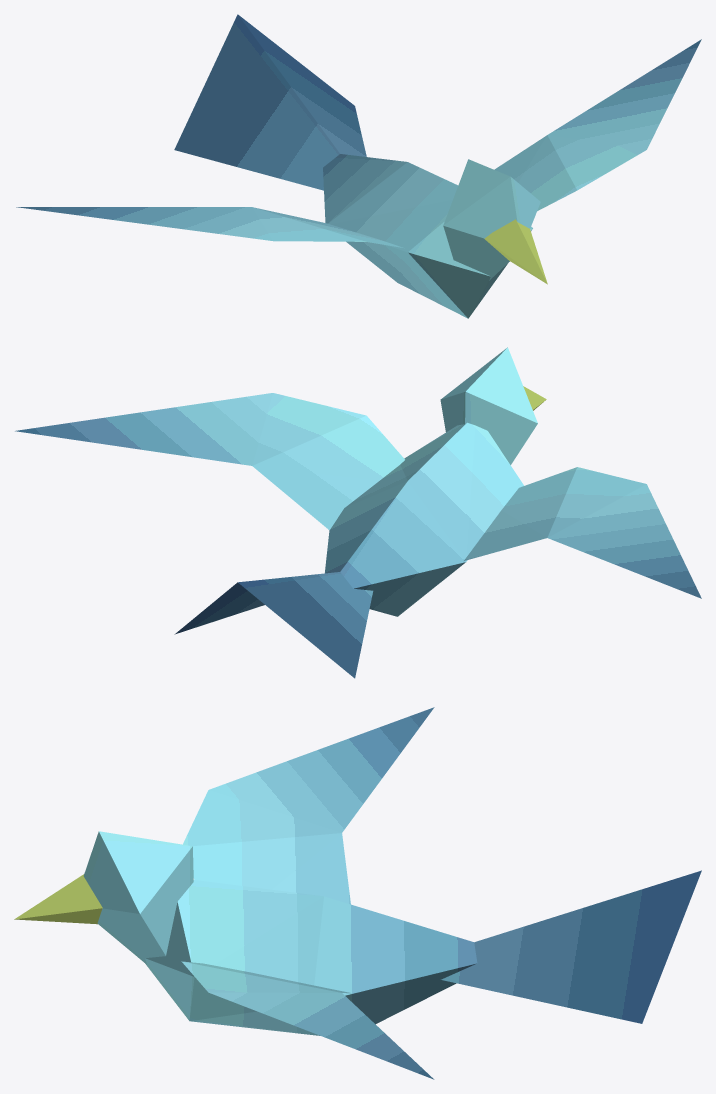
The model's file is bird.glb.
3 views of the same model, one above another, from view 1: azimuth 30°, elevation 25°; view 2: azimuth 150°, elevation 25°; view 3: azimuth 270°, elevation 25° (orthographic). The views are drawn at different scales.
Visible parts, largest first — view 1: bird; view 2: bird; view 3: bird.
Boxes of the visible parts, x1,y1,x2,y2 form: bird: [16, 14, 701, 318]; bird: [15, 347, 701, 678]; bird: [14, 707, 701, 1079].
Bounding box in the file's own units: 17.52 × 4.57 × 13.66.
1 material, 1 textured.
